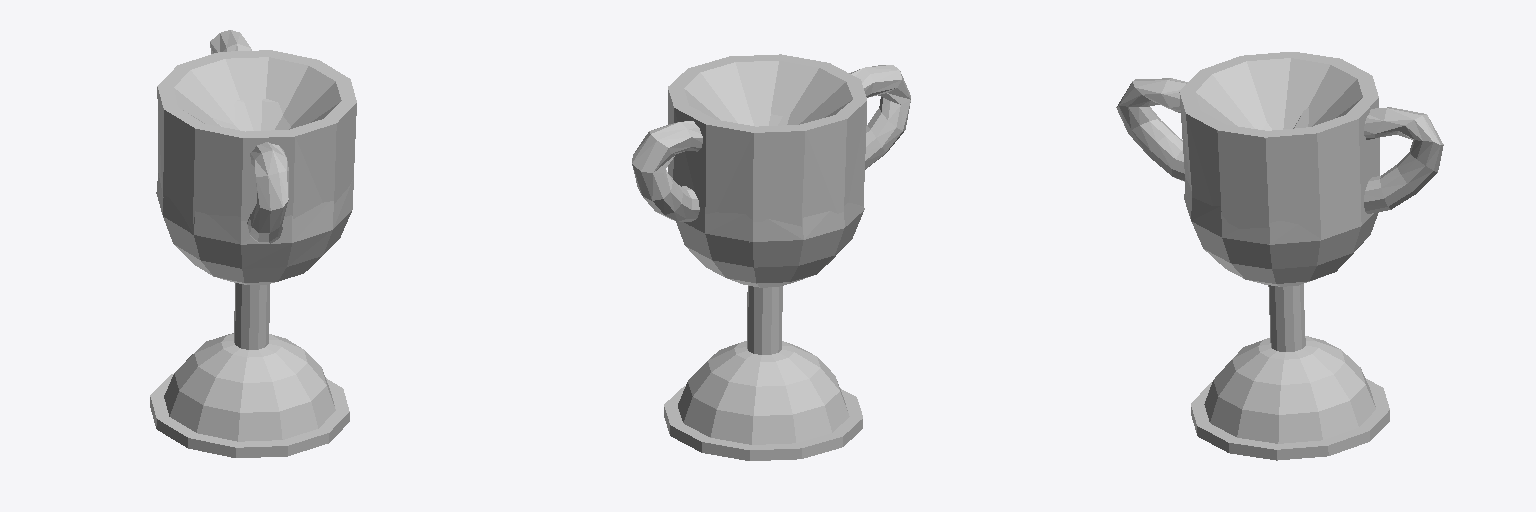
Rendered from trophy.obj.
3 views of the same model, side by side, from view 1: azimuth 30°, elevation 25°; view 2: azimuth 150°, elevation 25°; view 3: azimuth 270°, elevation 25° (orthographic).
Visible parts, largest first — view 1: group[number redacted]; view 2: group[number redacted]; view 3: group[number redacted].
Part boxes in pixels (left/top/right/bottom): group[number redacted]: left=150, top=30, right=356, bottom=457; group[number redacted]: left=632, top=54, right=910, bottom=460; group[number redacted]: left=1116, top=52, right=1443, bottom=460.
Bounding box in the file's own units: 0.2785 × 0.5024 × 0.4523.